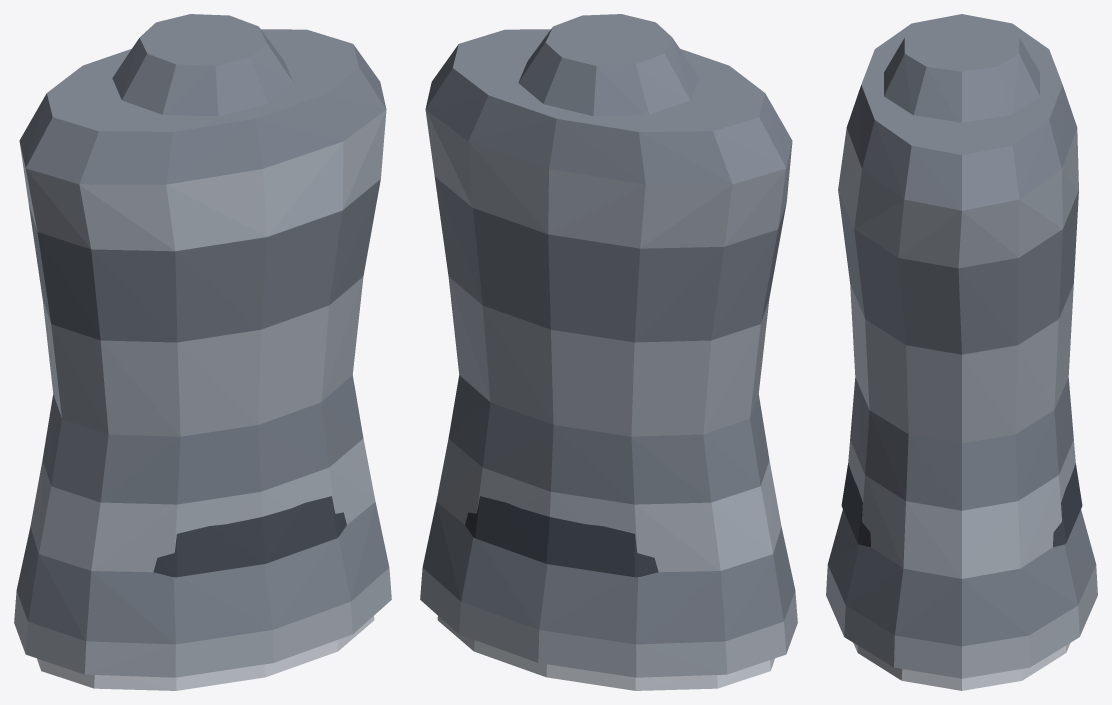
File: gear_steel_chainbody_torso_m.glb
3 renders of one model, left to right at view 1: azimuth 30°, elevation 25°; view 2: azimuth 150°, elevation 25°; view 3: azimuth 270°, elevation 25°, orthographic. The views are drawn at different scales.
Visible parts, largest first — view 1: gear_steel_chainbody_torso_m; view 2: gear_steel_chainbody_torso_m; view 3: gear_steel_chainbody_torso_m.
Part boxes in pixels (x1,y1,x2,y2): gear_steel_chainbody_torso_m: [14, 14, 391, 690]; gear_steel_chainbody_torso_m: [420, 14, 797, 690]; gear_steel_chainbody_torso_m: [826, 14, 1097, 690].
Bounding box in the file's own units: 0.458 × 0.73 × 0.316.
